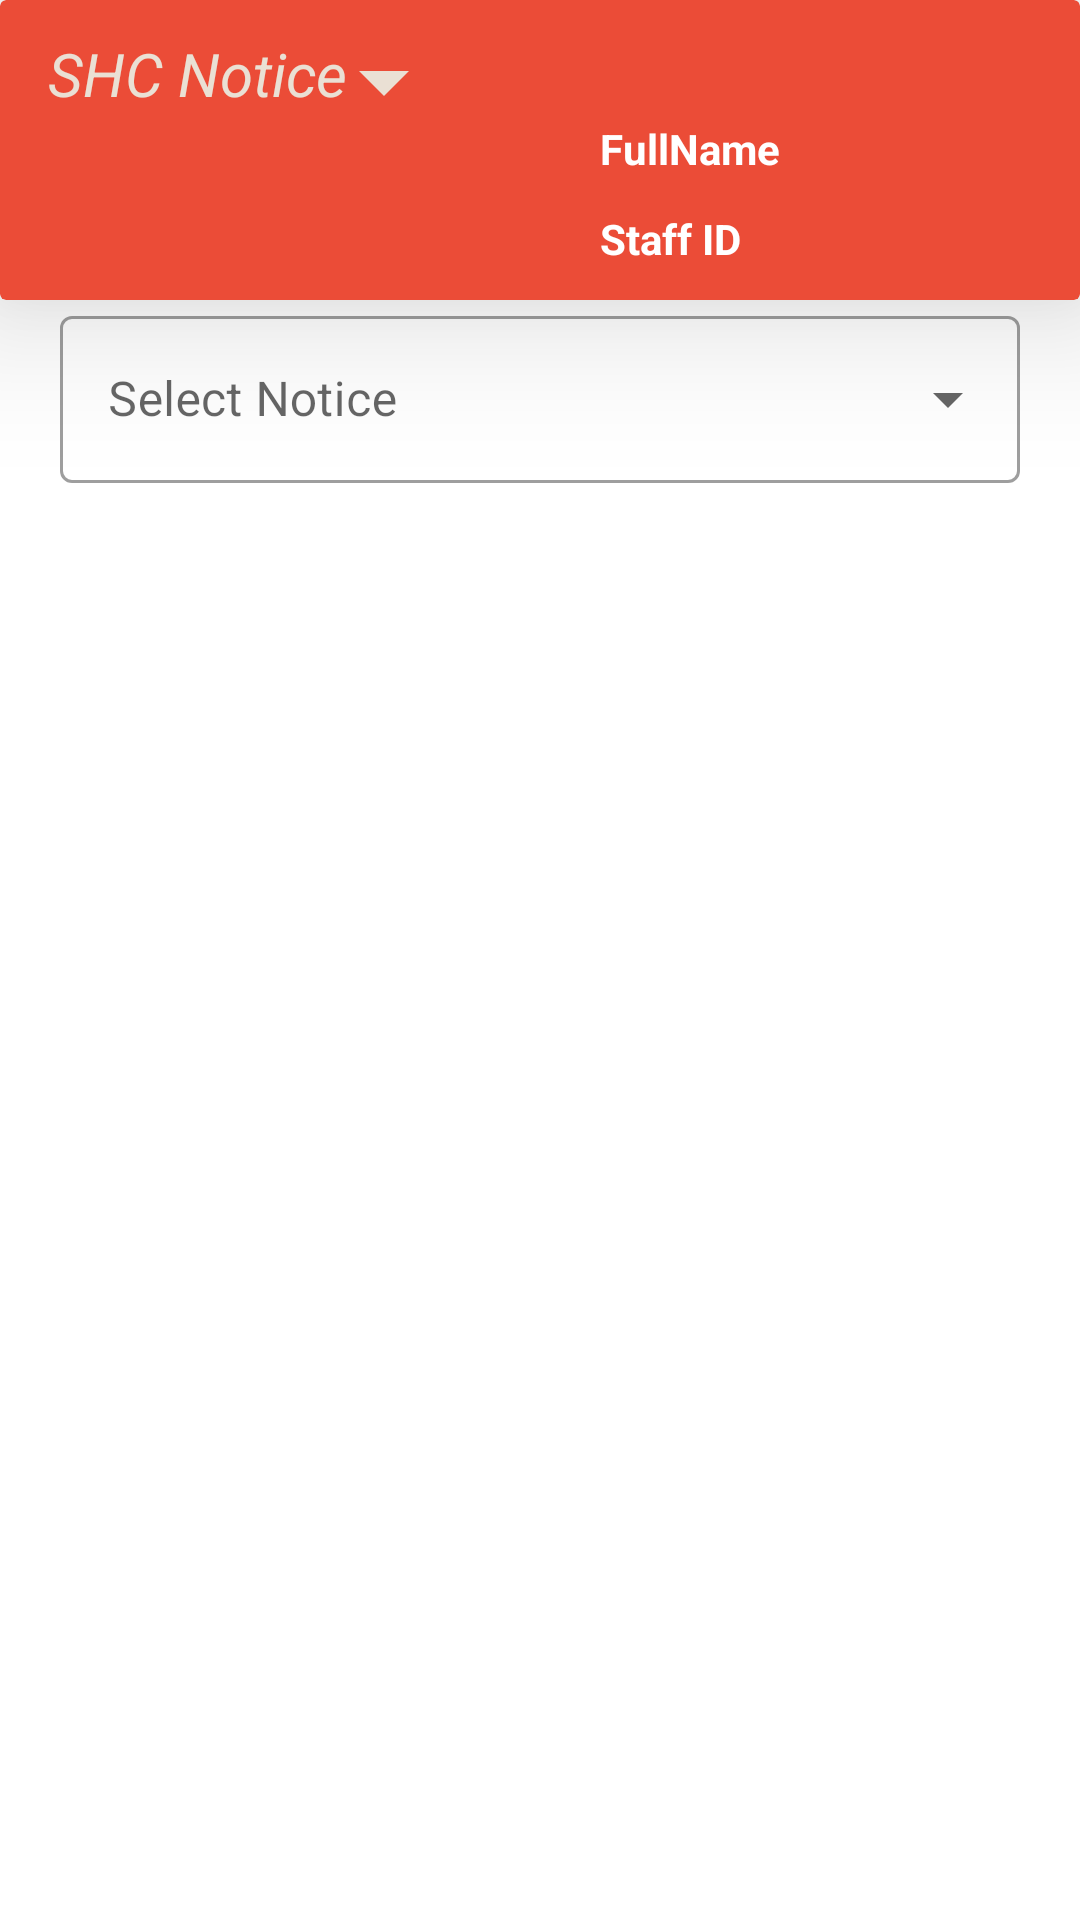

Screen size 1080 x 1920. Icon name, then its box in pixels as (x1, y1, x2, y2):
down: (359, 71, 409, 96)
